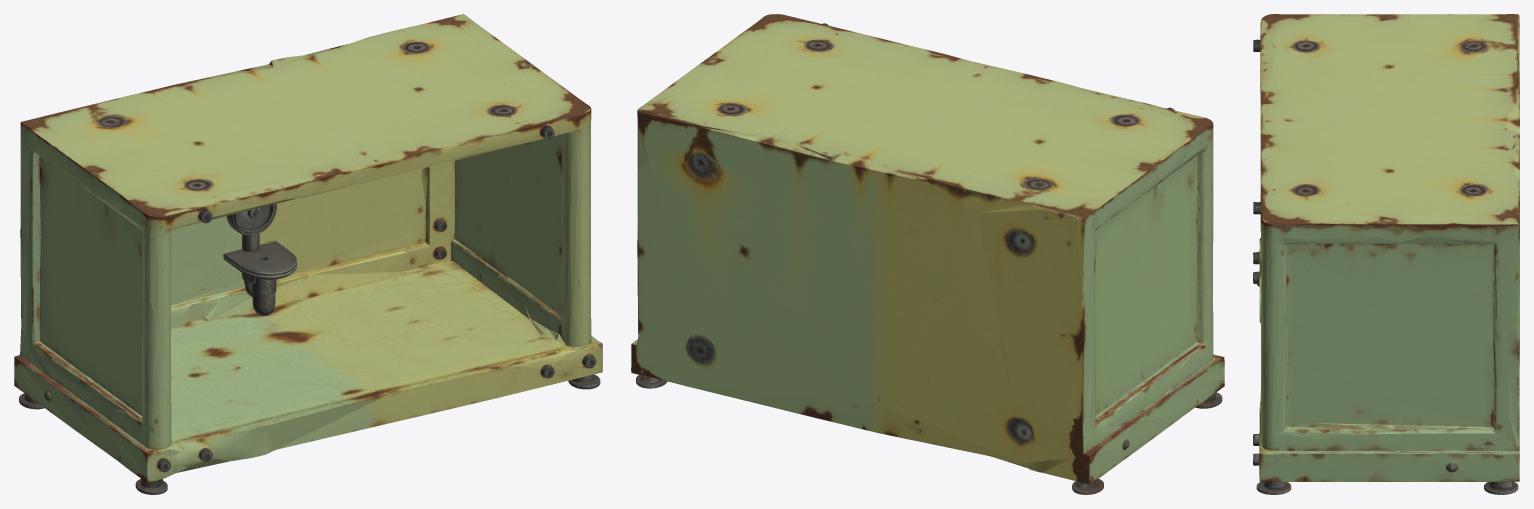
Rendered from vasca_bassa.glb.
3 views of the same model, side by side, from view 1: azimuth 30°, elevation 25°; view 2: azimuth 150°, elevation 25°; view 3: azimuth 270°, elevation 25° (orthographic). The views are drawn at different scales.
Size of the model in its own units: 1.9 by 1.08 by 0.9786.
Materials: 1 (1 with a texture image).
